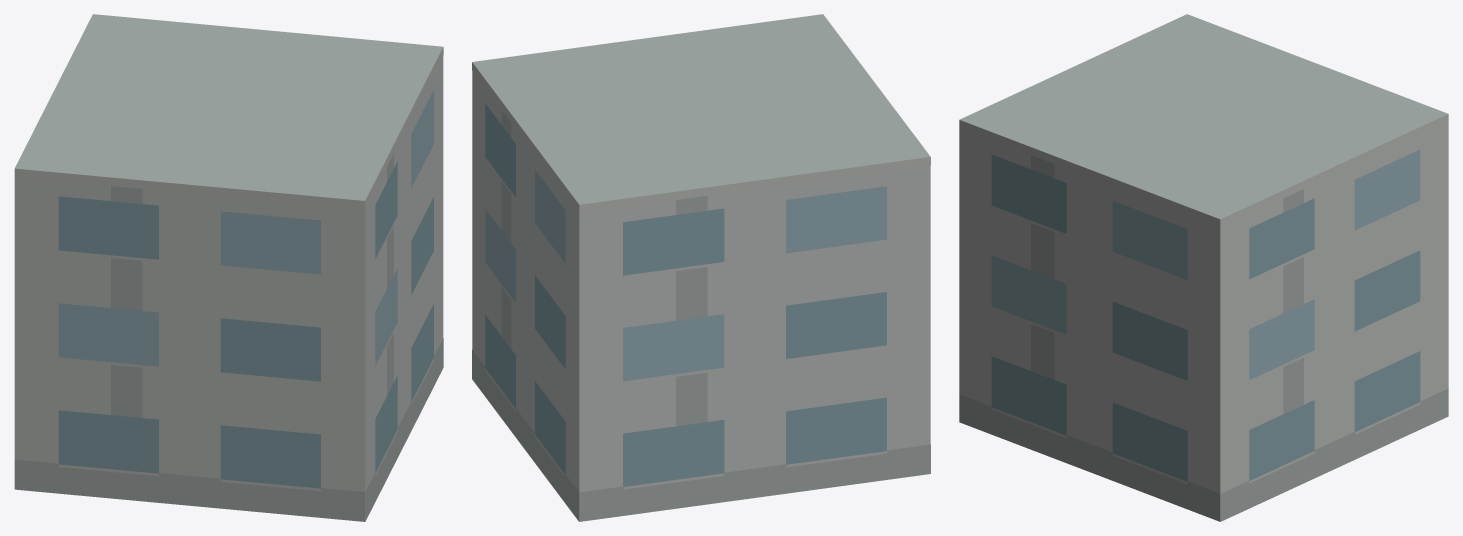
Rendered from residential-c63370d3-a006-4609-96c8-dae3b3e86f07.glb.
The picture shows the model from 3 angles, left to right: view 1: azimuth 30°, elevation 25°; view 2: azimuth 150°, elevation 25°; view 3: azimuth 270°, elevation 25°; orthographic projection. The views are drawn at different scales.
Parts seen in each view (by area): view 1: residential-c63370d3-a006-4609-96c8-dae3b3e86f07.tmp; view 2: residential-c63370d3-a006-4609-96c8-dae3b3e86f07.tmp; view 3: residential-c63370d3-a006-4609-96c8-dae3b3e86f07.tmp.
Part boxes in pixels (box(x1,y1,x2,y2)): residential-c63370d3-a006-4609-96c8-dae3b3e86f07.tmp: box(14, 14, 443, 521); residential-c63370d3-a006-4609-96c8-dae3b3e86f07.tmp: box(472, 14, 930, 521); residential-c63370d3-a006-4609-96c8-dae3b3e86f07.tmp: box(959, 14, 1448, 521).
Bounding box in the file's own units: 13.33 × 9.15 × 13.42.
